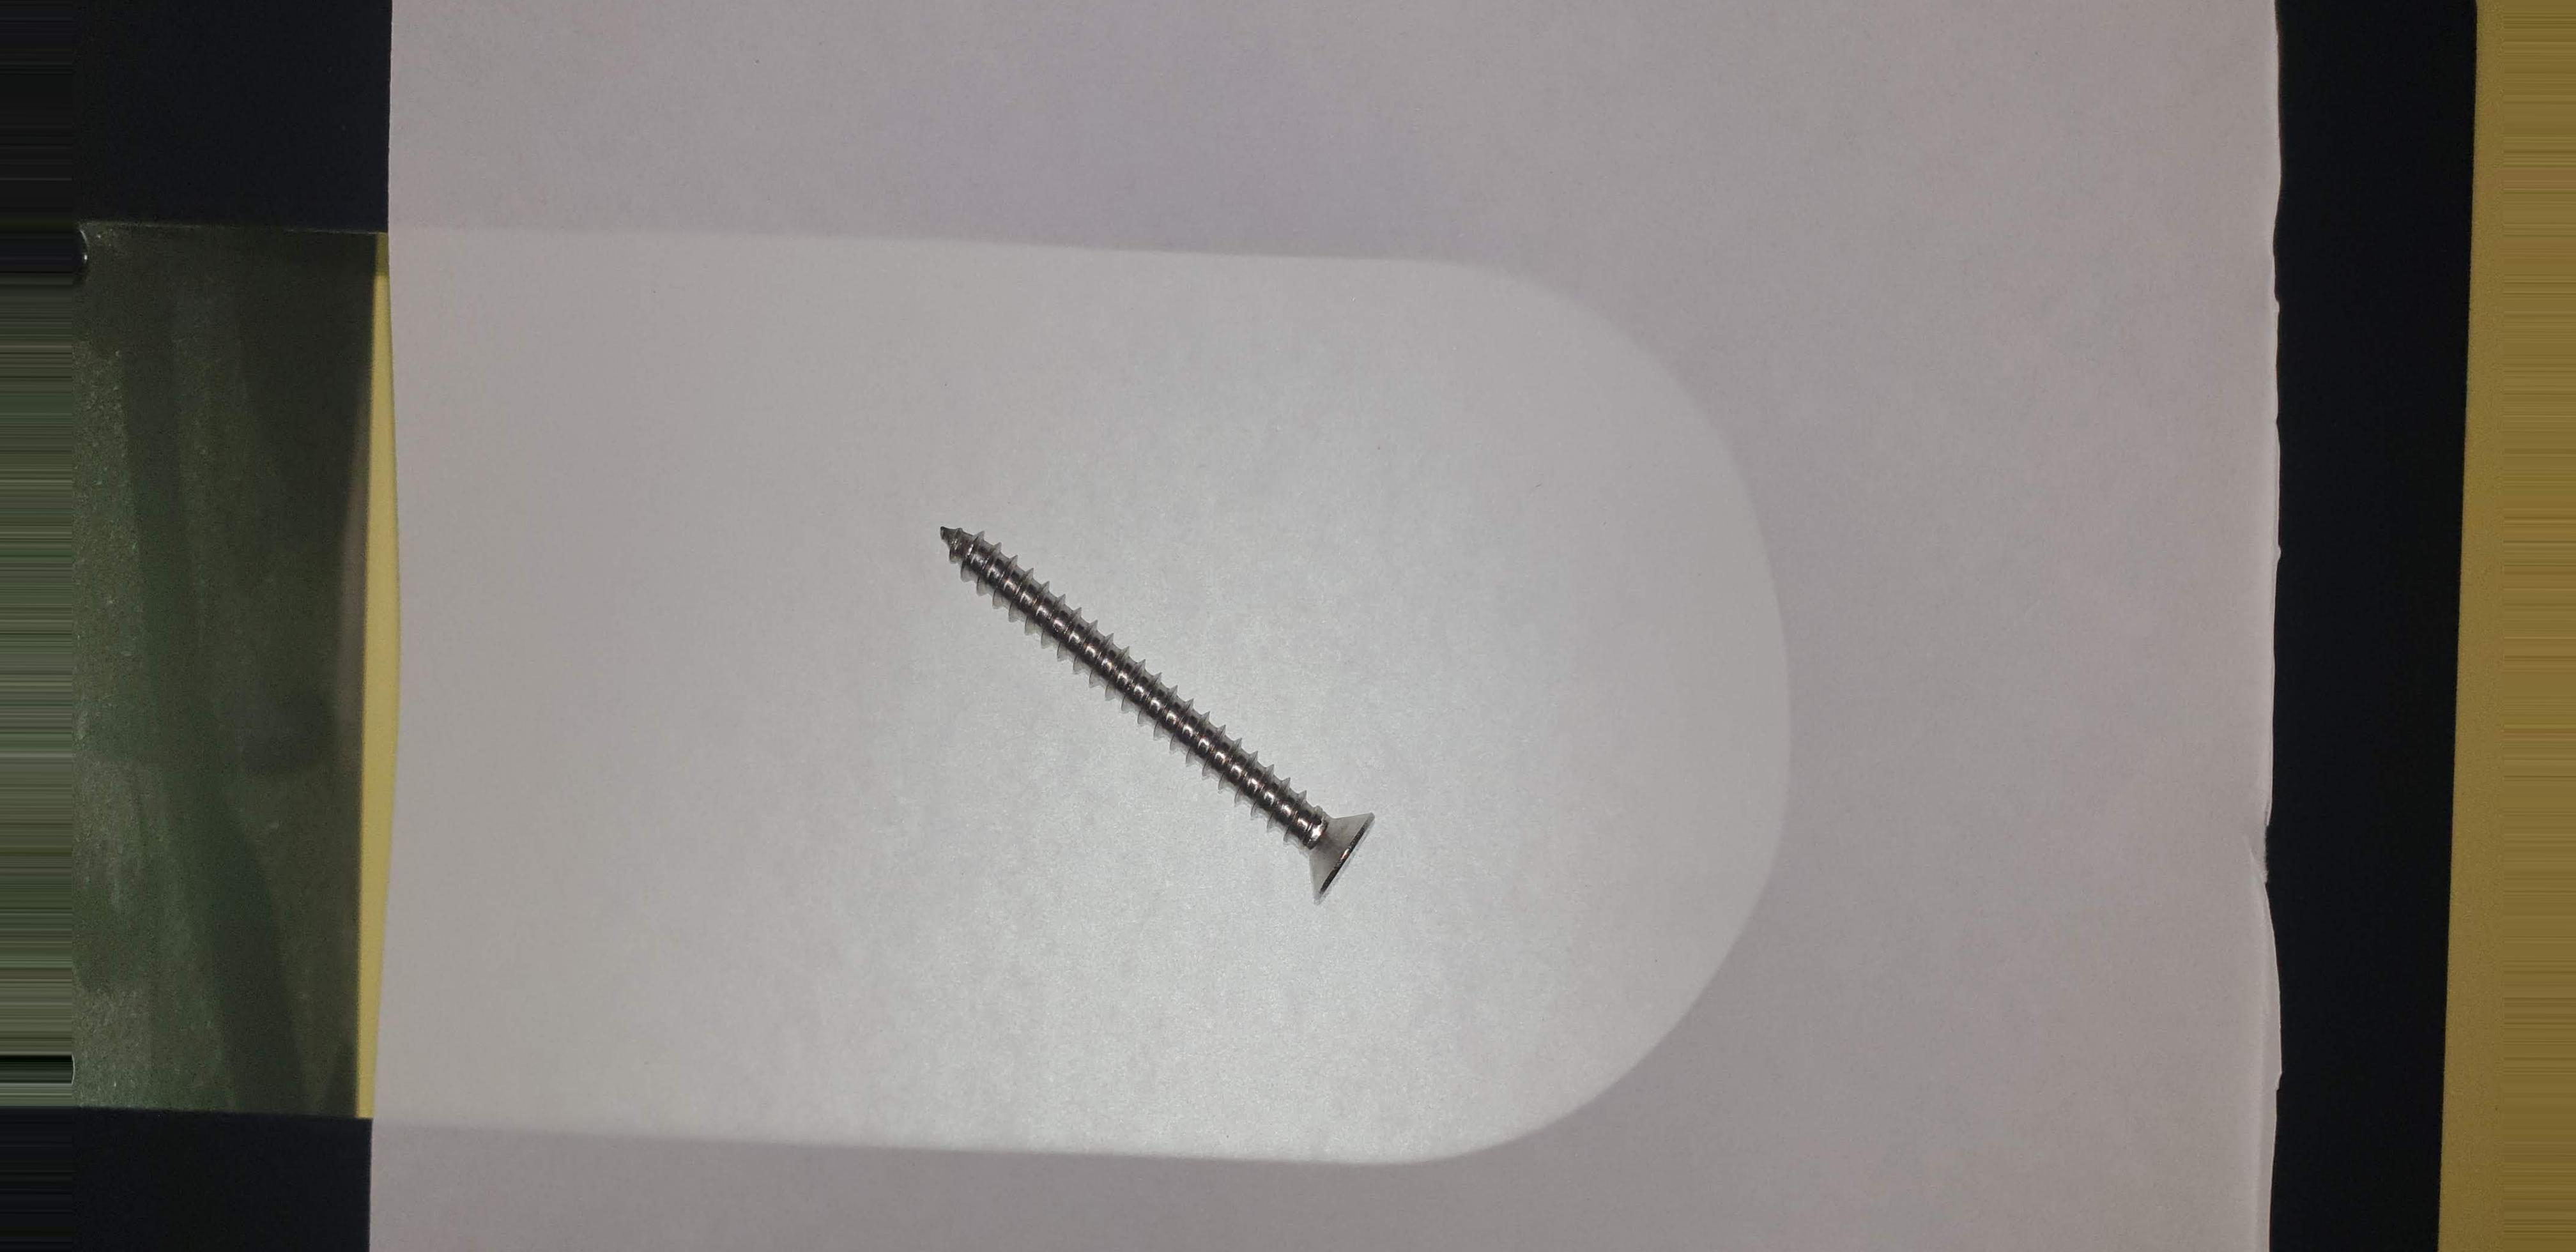fastener: (871, 450, 1434, 928)
